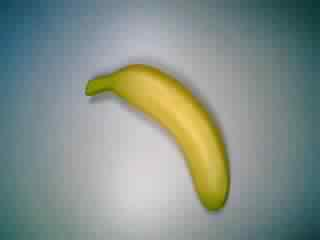banana: (80, 63, 234, 214)
